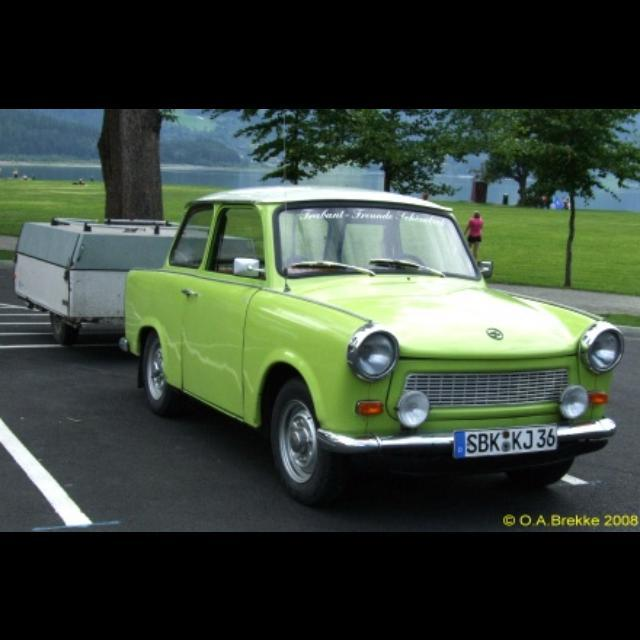license-plates: (454, 428, 558, 460)
